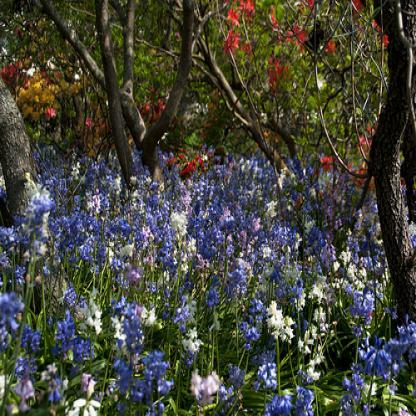TULIP: (43, 129, 391, 406)
